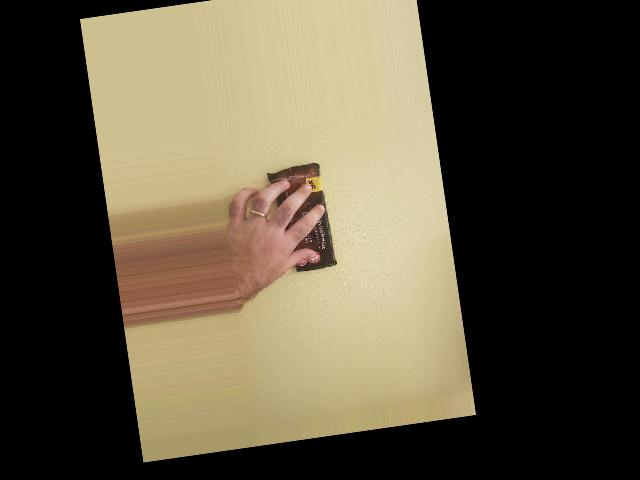chocolate: (267, 159, 338, 278)
